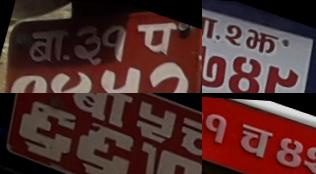1: (97, 15, 135, 64), (0, 65, 57, 93), (202, 105, 232, 147)
2: (134, 51, 202, 93), (218, 16, 248, 51), (297, 138, 316, 174)
3: (66, 18, 109, 71)
4: (38, 60, 102, 93), (221, 50, 268, 93), (270, 130, 308, 171)
5: (128, 93, 181, 147), (86, 55, 154, 93)
6: (6, 93, 83, 167), (68, 114, 139, 174)
7: (125, 136, 202, 174), (202, 40, 231, 93)
9: (257, 57, 304, 93)
ba: (23, 18, 74, 72), (64, 93, 135, 129), (202, 6, 220, 43)
cha: (232, 117, 277, 162), (171, 108, 202, 166)
jha: (242, 23, 281, 58)
pa: (131, 6, 183, 57)
